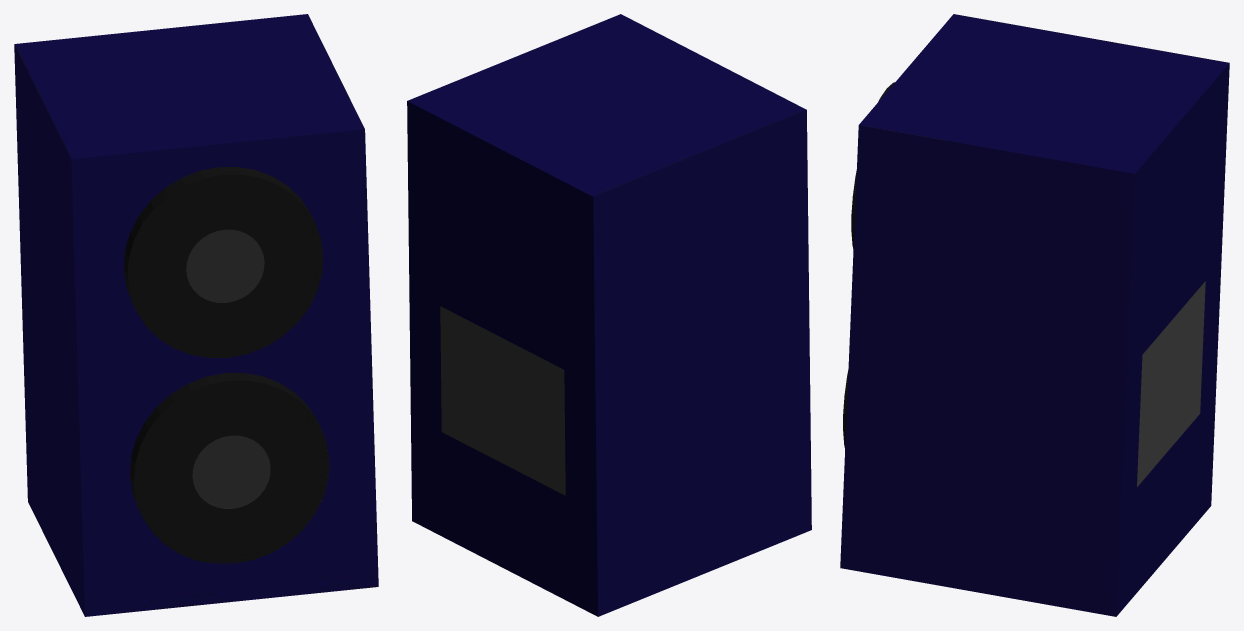
File: mdlBocina.obj
The picture shows the model from 3 angles, left to right: view 1: azimuth 30°, elevation 25°; view 2: azimuth 150°, elevation 25°; view 3: azimuth 270°, elevation 25°; orthographic projection. The views are drawn at different scales.
Parts seen in each view (by area): view 1: mdlBocina01; view 2: mdlBocina01; view 3: mdlBocina01.
Part boxes in pixels (left/top/right/bottom): mdlBocina01: left=14, top=14, right=378, bottom=616; mdlBocina01: left=407, top=14, right=811, bottom=616; mdlBocina01: left=840, top=14, right=1229, bottom=616.
Bounding box in the file's own units: 1.32 × 1.76 × 1.37.
1 material, 1 textured.
